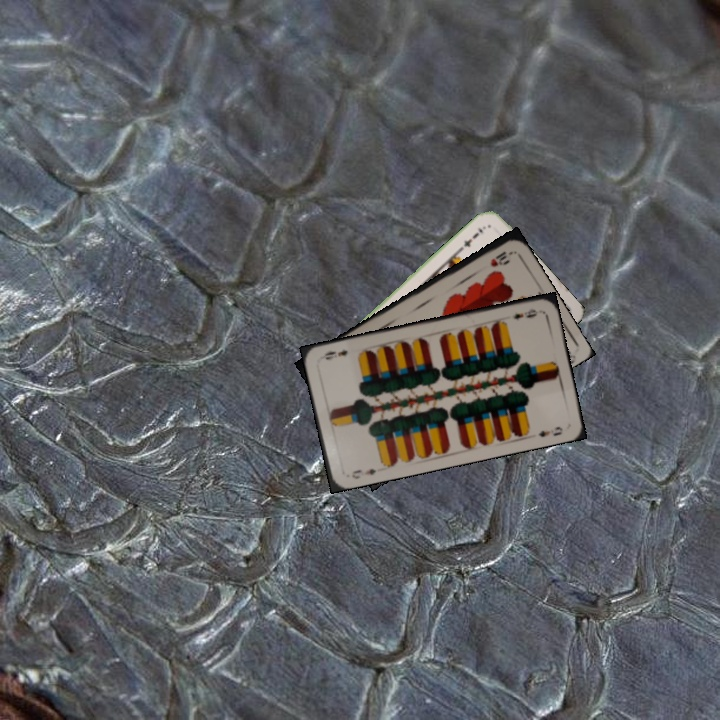E7: (456, 222, 489, 253)
E9: (348, 464, 379, 481), (510, 305, 540, 322)
H10: (486, 247, 514, 269)
